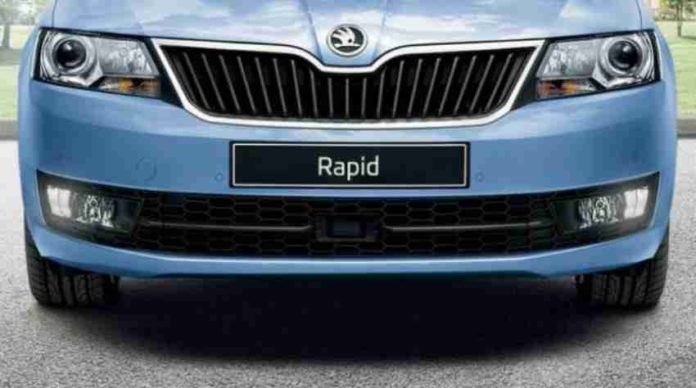plate: (219, 131, 488, 195)
